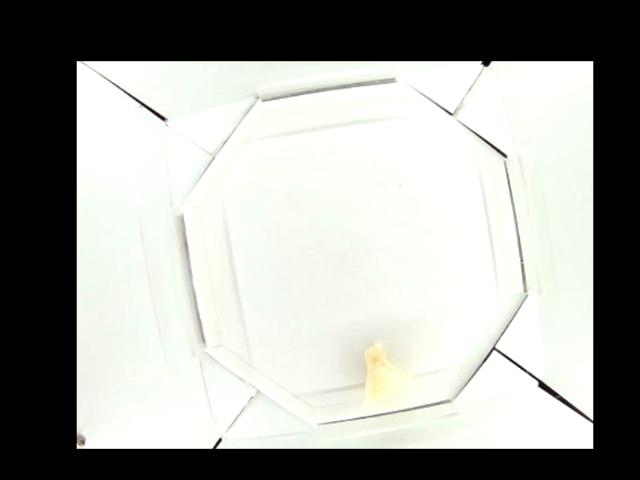Mooli: (362, 341, 414, 403)
